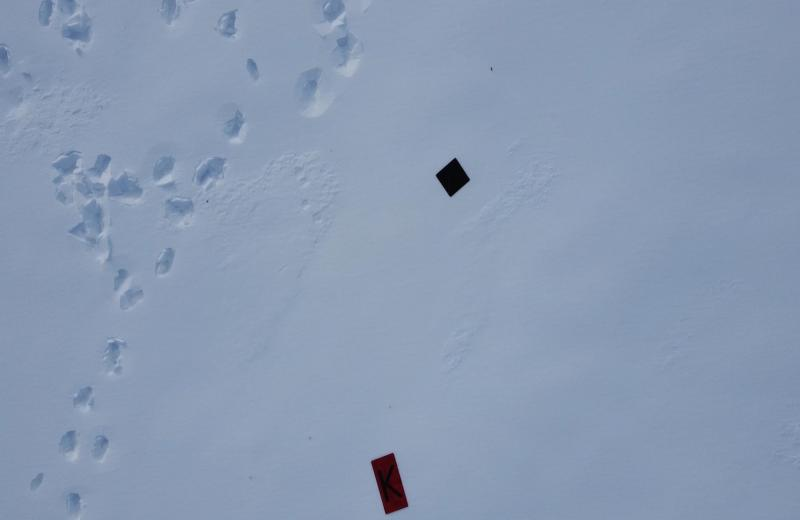Rectangle: (370, 453, 410, 516)
Square: (435, 158, 470, 198)
